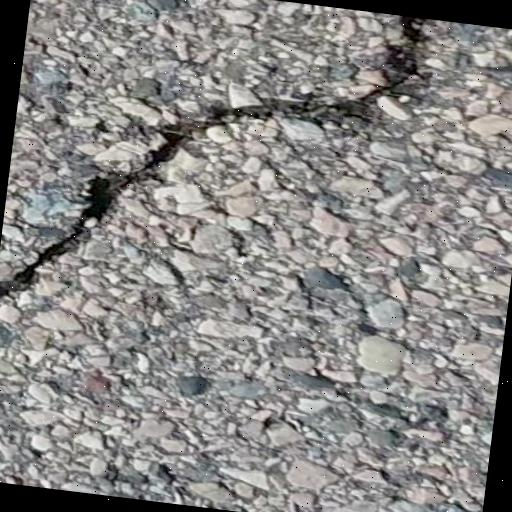spalling: (0, 15, 437, 307)
